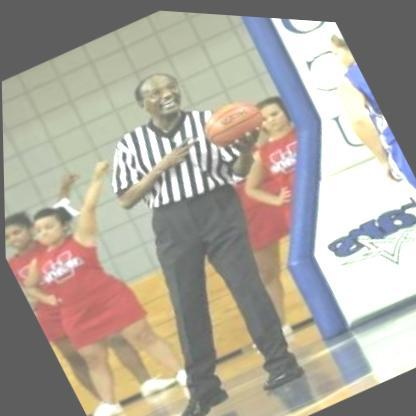basketball: (193, 84, 272, 159)
